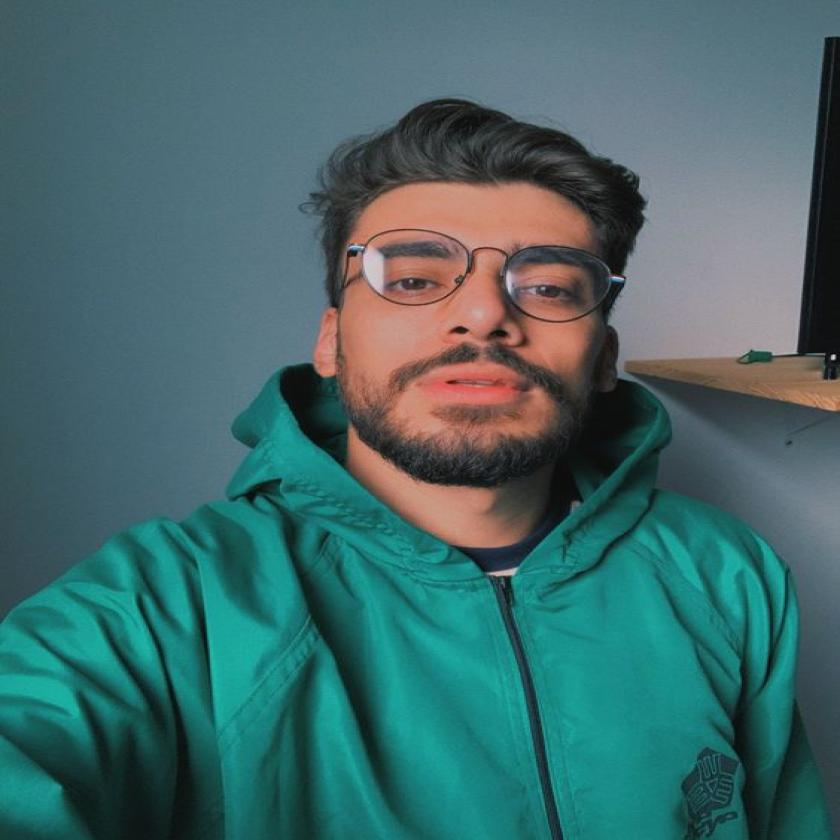Sin_casco: (288, 97, 652, 517)
